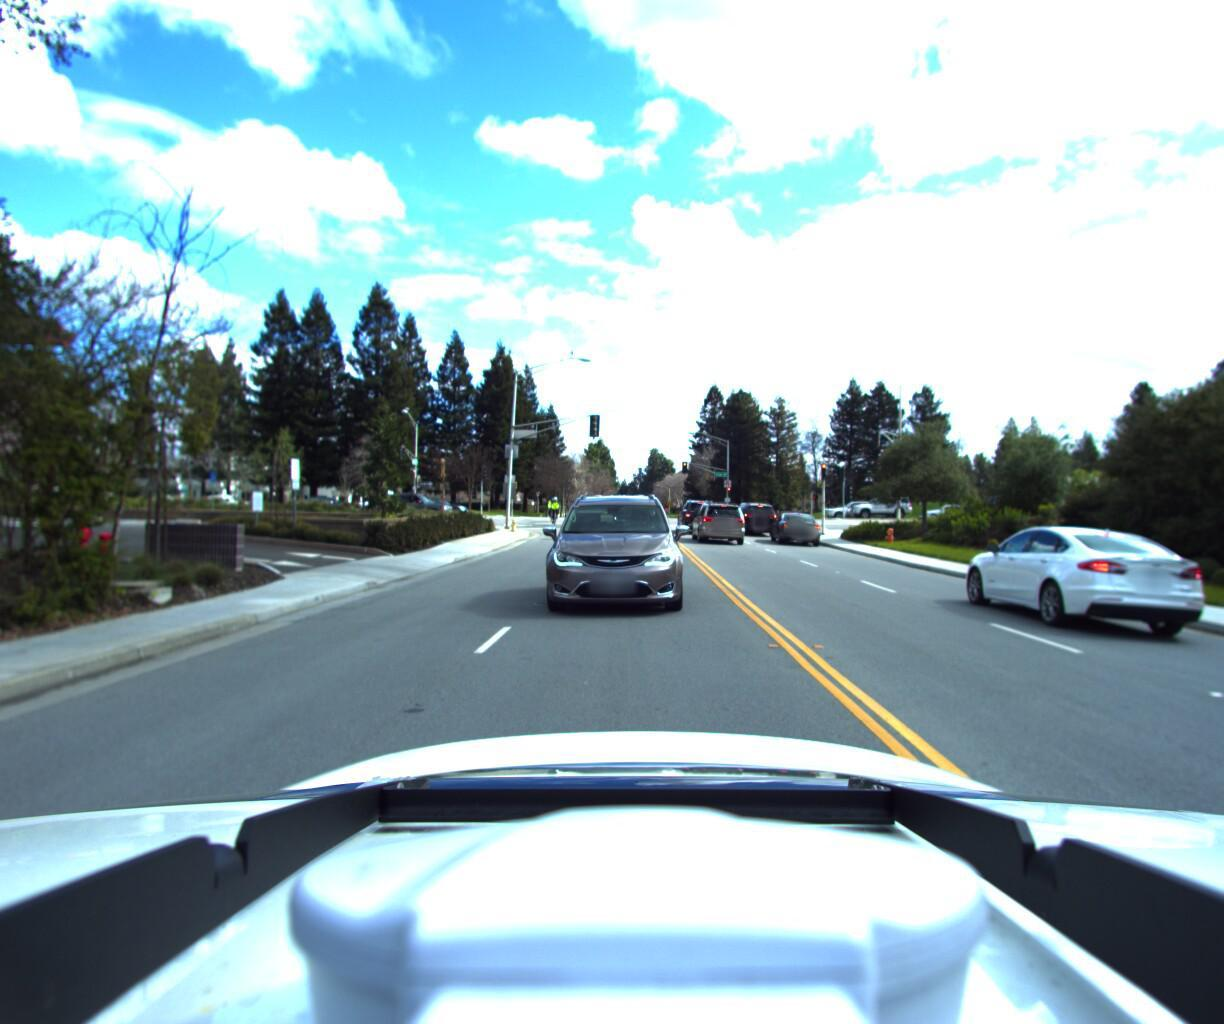bicycle: (543, 505, 560, 536)
car: (939, 527, 1196, 642), (532, 486, 686, 626), (369, 500, 453, 529), (691, 509, 744, 553), (767, 515, 822, 548), (732, 510, 779, 545), (845, 504, 913, 527), (674, 506, 716, 541), (841, 508, 899, 526), (823, 509, 878, 527)
